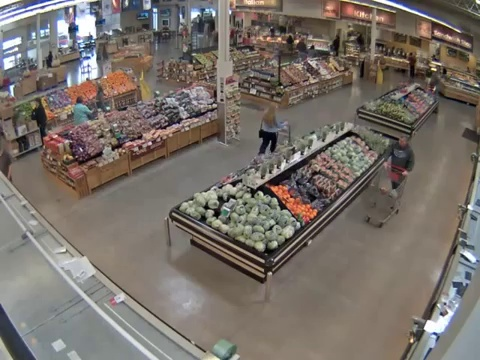face: (398, 137, 405, 146)
